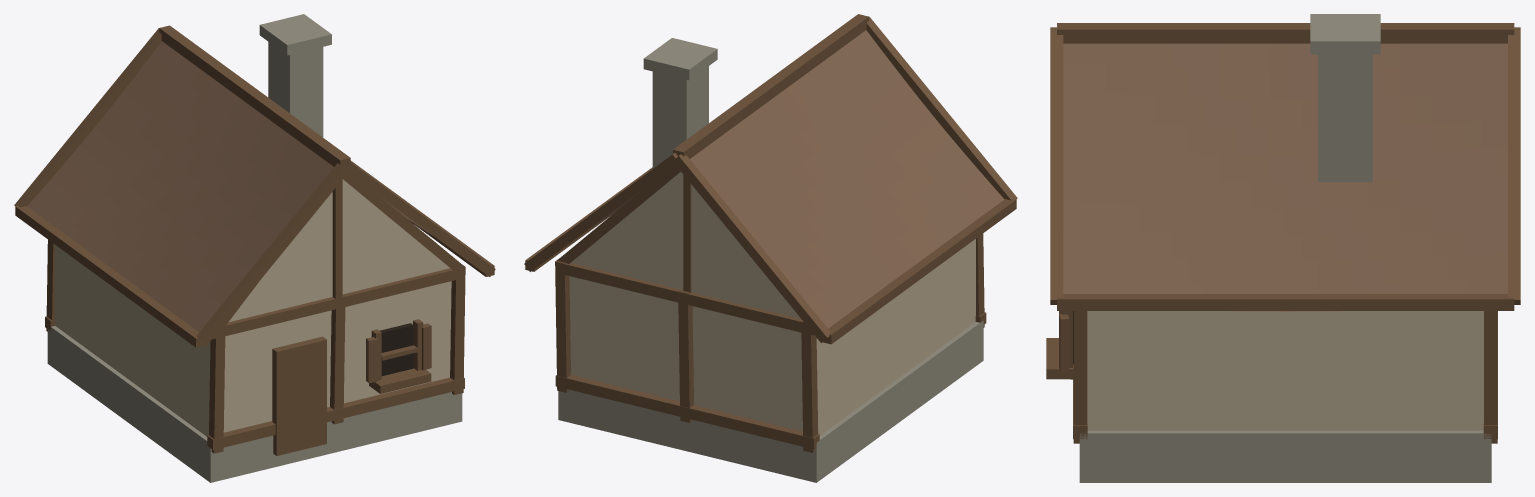
Rendered from hearth_cottage_authored.glb.
The picture shows the model from 3 angles, left to right: view 1: azimuth 30°, elevation 25°; view 2: azimuth 150°, elevation 25°; view 3: azimuth 270°, elevation 25°; orthographic projection. The views are drawn at different scales.
Parts seen in each view (by area): view 1: hearth_cottage_authored; view 2: hearth_cottage_authored; view 3: hearth_cottage_authored.
Boxes of the visible parts, left/top/right/bottom form: hearth_cottage_authored: left=14, top=14, right=495, bottom=482; hearth_cottage_authored: left=524, top=14, right=1017, bottom=482; hearth_cottage_authored: left=1046, top=14, right=1520, bottom=482.
Size of the model in its own units: 5.1 by 5.39 by 5.55.
